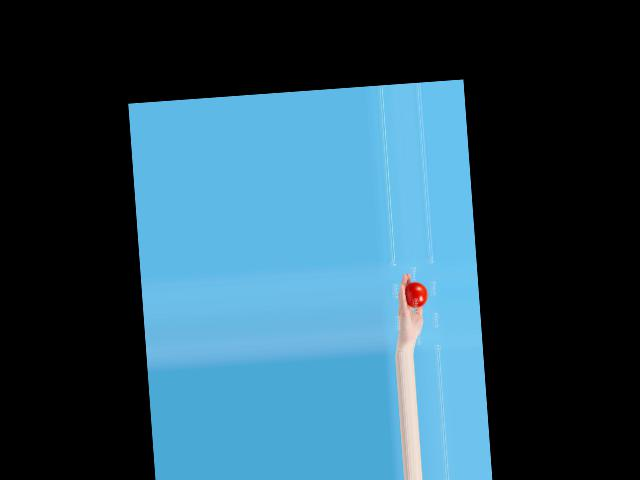tomato: (404, 281, 428, 308)
